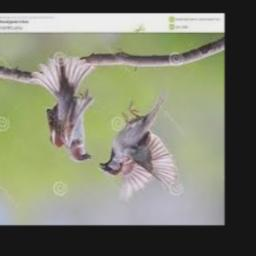Sparrow: (98, 93, 178, 196), (30, 54, 94, 162)
